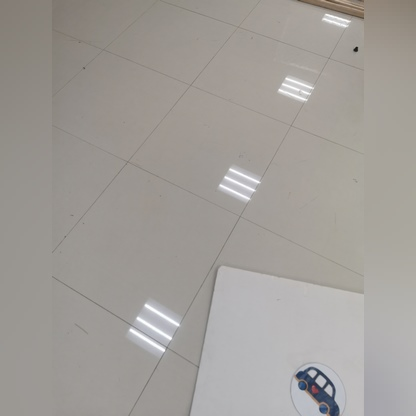car: (289, 360, 350, 416)
